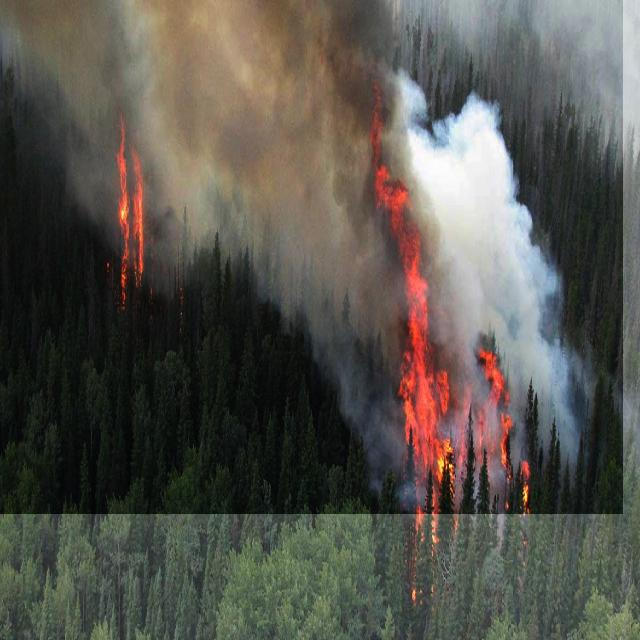Smoke: (0, 0, 623, 514)
